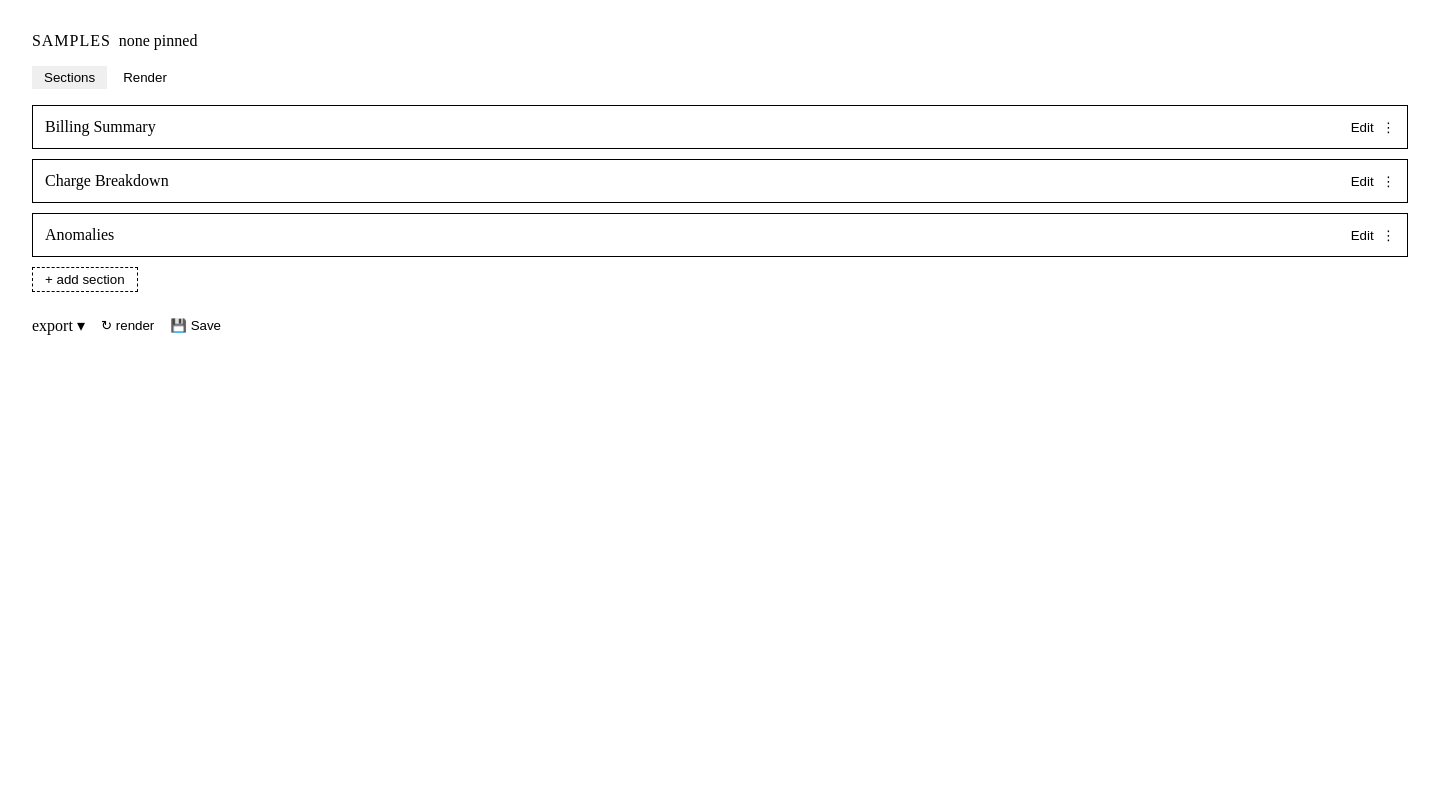
Test: SmartReportBuilder — 2026-05-29-smart-report-screen Phase 4 › renders the seeded section rows and opens the inline section editor on Edit
Check: the element with test id "report-builder-row-billing_summary" is shown, box 32,105 -> 1408,149
Check: the element with test id "report-builder-row-charge_breakdown" is shown, box 32,159 -> 1408,203
Click the button with test id "report-builder-edit-billing_summary" at (1362, 127), box 1351,120 -> 1374,134
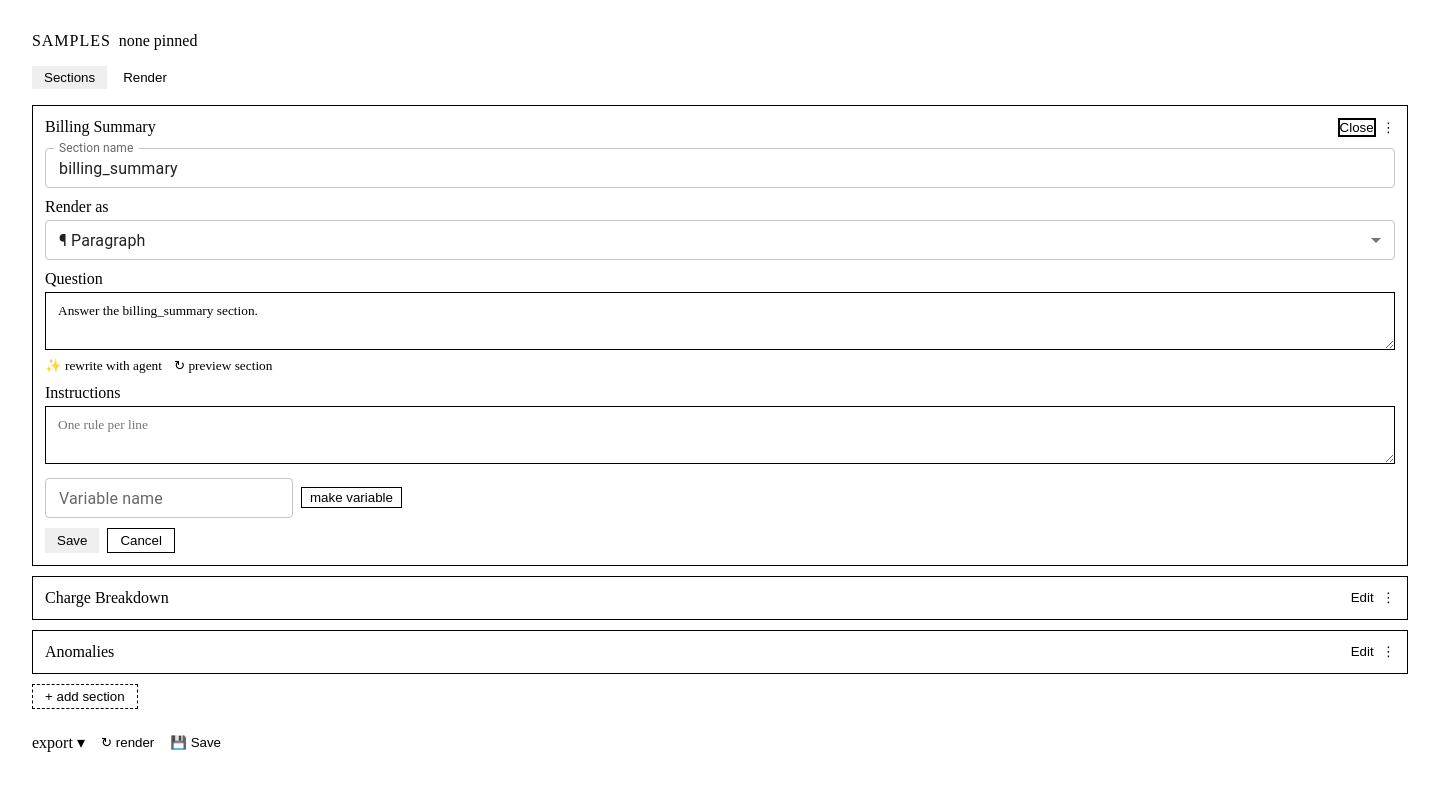
Check: the field labelled "Section name" is shown, box 45,148 -> 1395,188
Check: the label labelled "Render as" is shown, box 45,198 -> 108,215
Check: the text box labelled "Question" is shown, box 45,292 -> 1395,350
